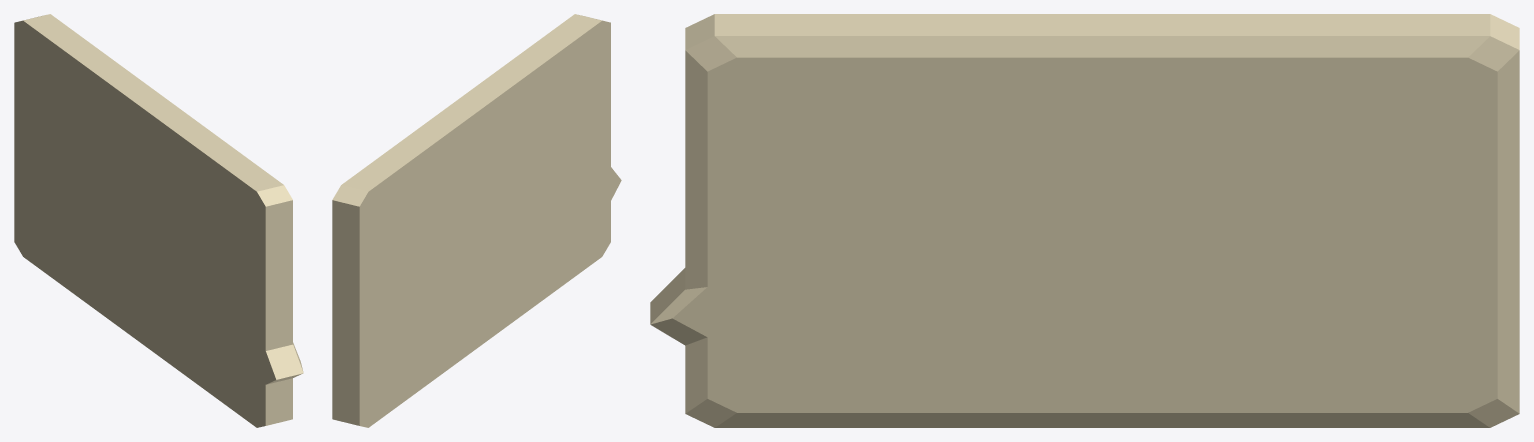
Rendered from dialog box 2.fbx.
3 views of the same model, side by side, from view 1: azimuth 30°, elevation 25°; view 2: azimuth 150°, elevation 25°; view 3: azimuth 270°, elevation 25° (orthographic). The views are drawn at different scales.
Visible parts, largest first — view 1: Cube.007; view 2: Cube.007; view 3: Cube.007.
Boxes of the visible parts, box(x1,y1,x2,y2) form: Cube.007: box(14, 14, 303, 427); Cube.007: box(332, 14, 621, 427); Cube.007: box(650, 14, 1519, 427).
Size of the model in its own units: 17.84 by 129 by 259.
